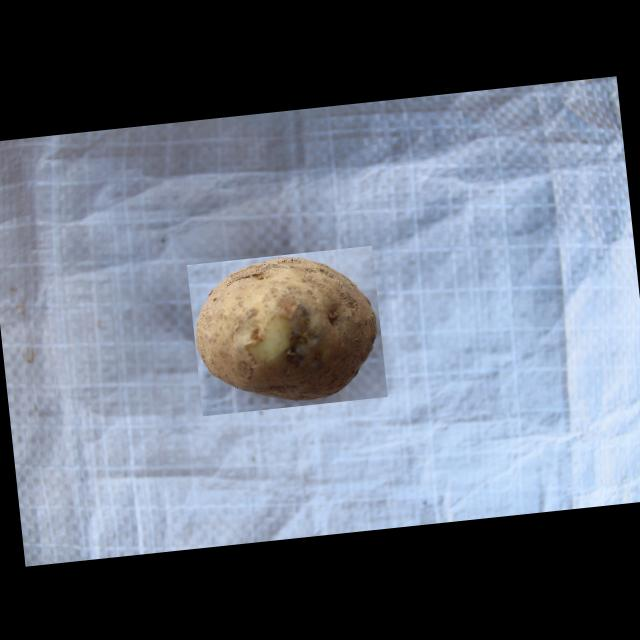Diseased-fungal potato: (186, 244, 387, 415)
